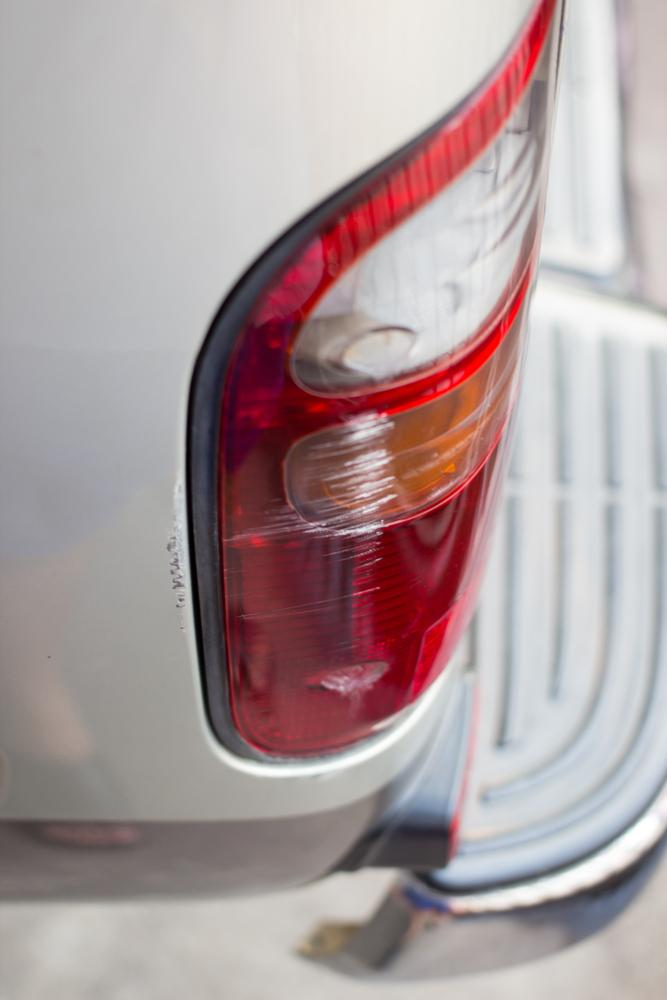scratch: (239, 401, 396, 661), (163, 493, 193, 635)
